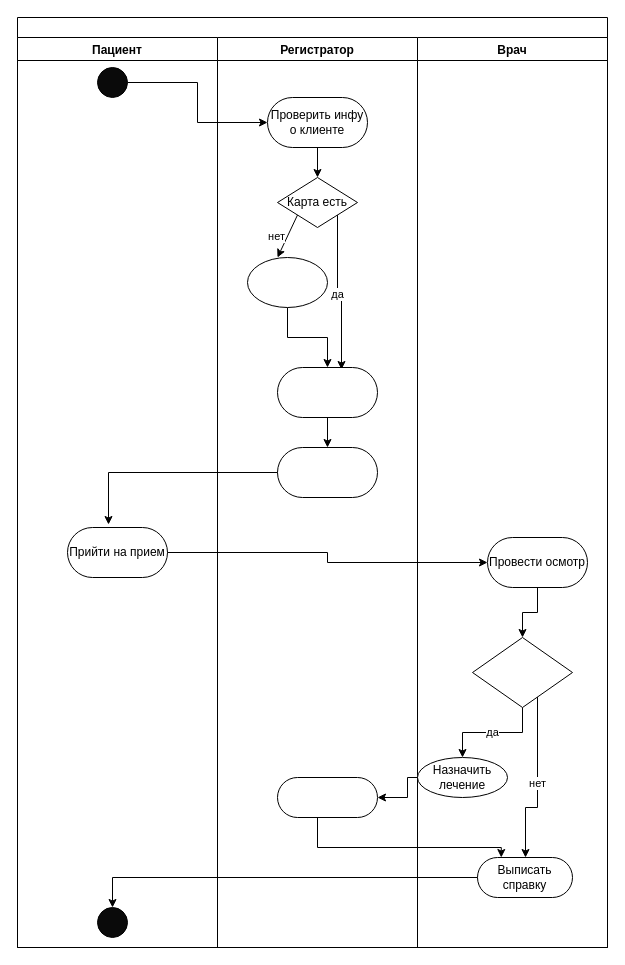
The diagram is 625 pixels wide and 965 high, and some of its shapes have lost their labels. The shapes that lost their labels are listed below. From the top down, each one's centre as x and y in pixels, then its label:
[287,282]: Завести карту
[327,392]: Записать на прием
[327,472]: Выдать талон
[522,672]: Есть заболевание
[327,797]: Поставить на учет
